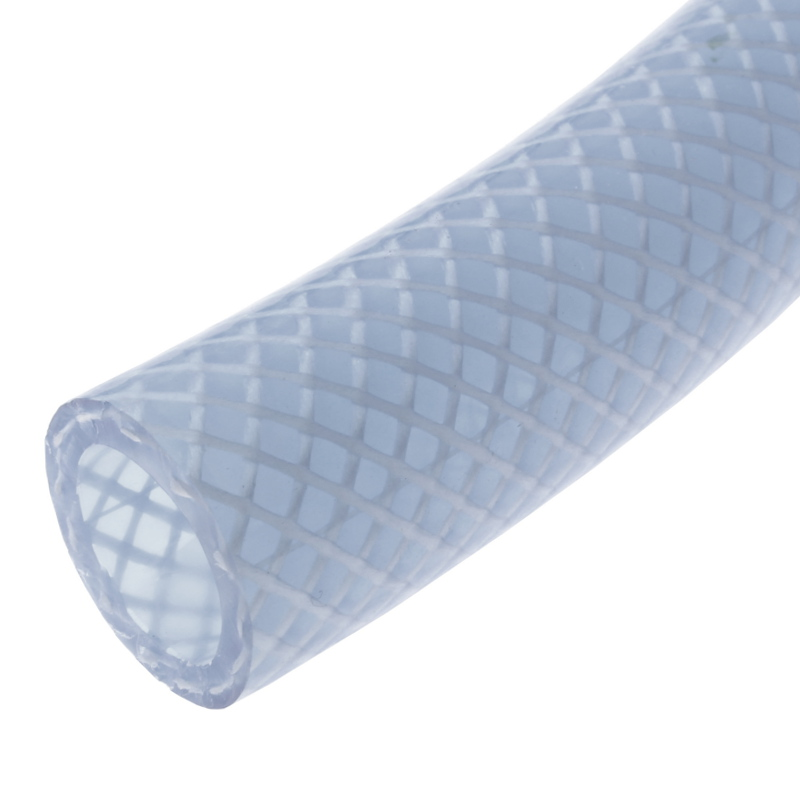Nonrec_Tangler: (30, 2, 772, 691)
